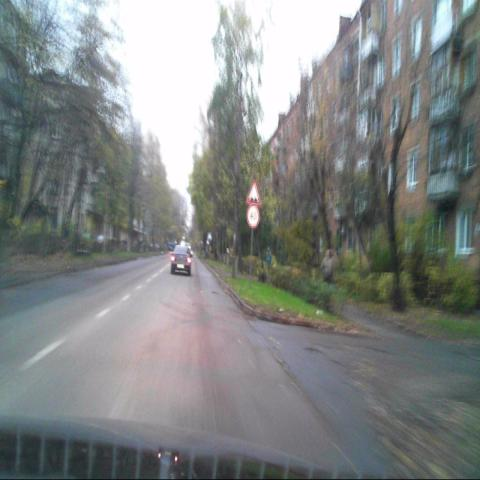1_16: (246, 179, 260, 205)
